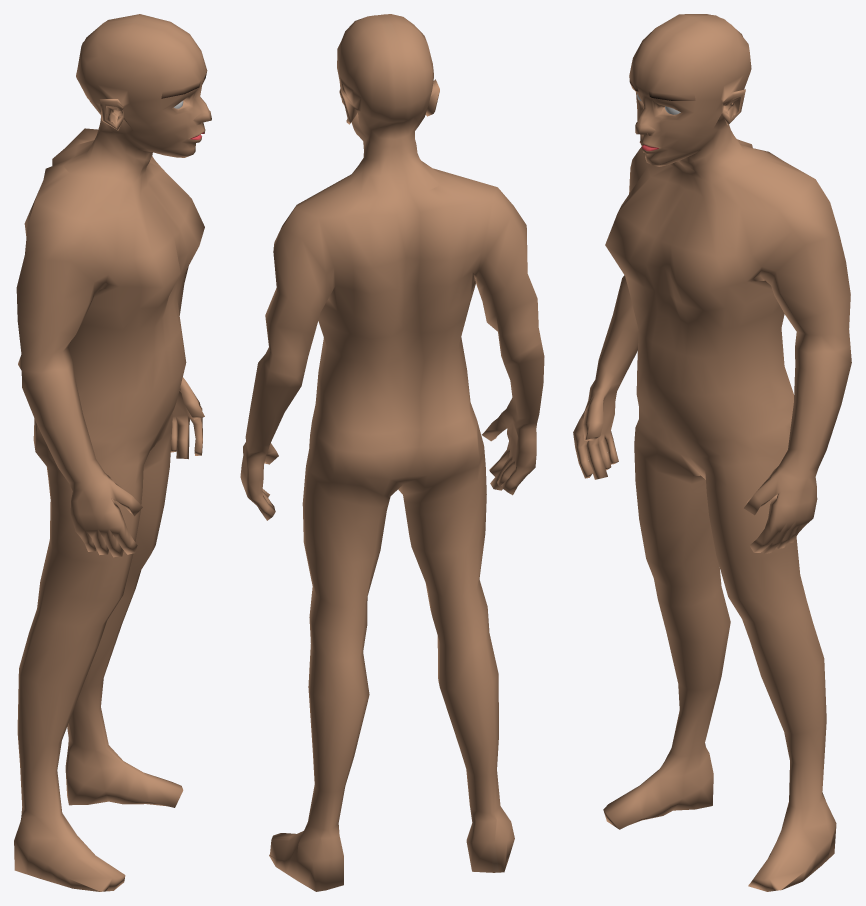
File: boneco3.glb
The picture shows the model from 3 angles, left to right: view 1: azimuth 30°, elevation 25°; view 2: azimuth 150°, elevation 25°; view 3: azimuth 270°, elevation 25°; orthographic projection.
Parts seen in each view (by area): view 1: Plane.001; view 2: Plane.001; view 3: Plane.001.
Part boxes in pixels (x1,y1,x2,y2): Plane.001: (14,14,211,891); Plane.001: (240,14,544,891); Plane.001: (573,14,851,891).
Bounding box in the file's own units: 1.1 × 3.58 × 1.08.
